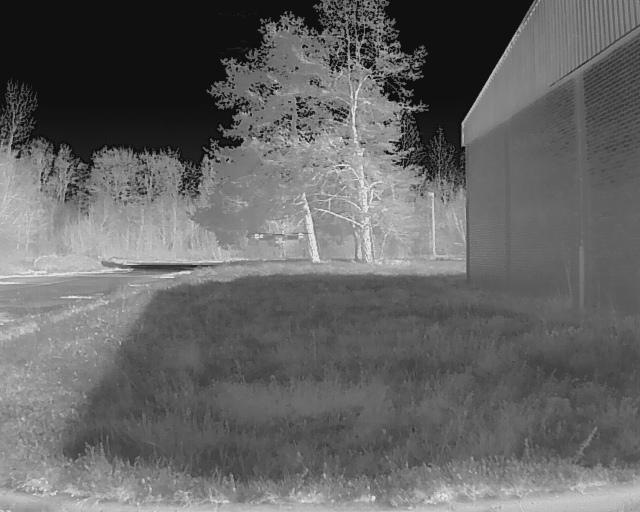drone: (239, 228, 317, 252)
